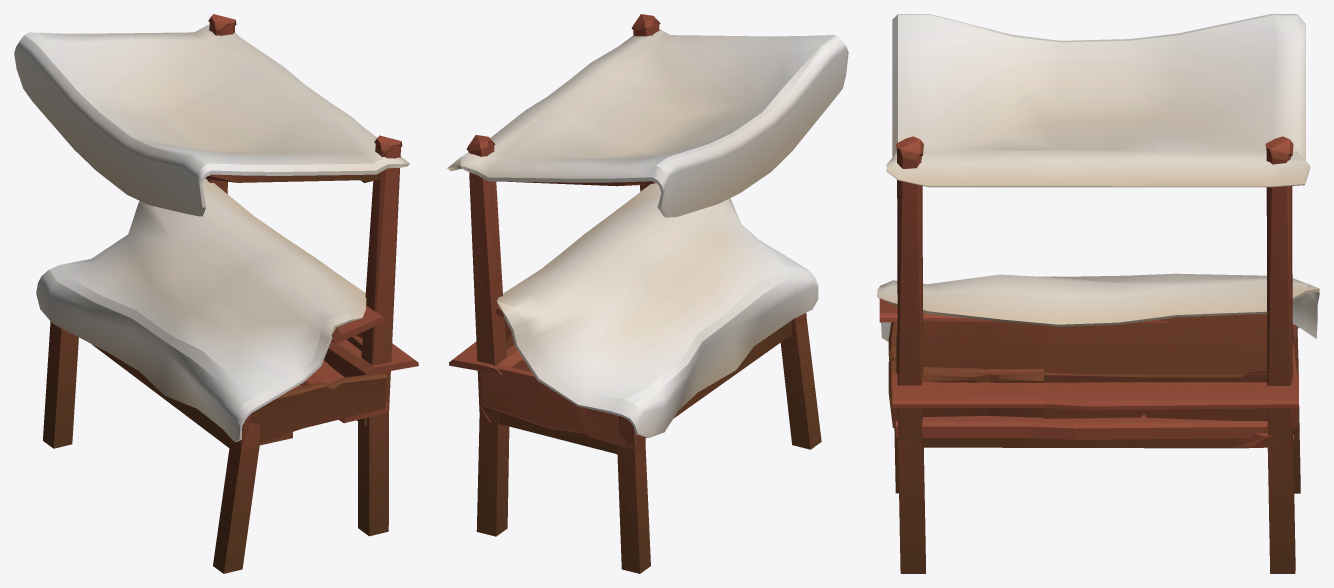
3 renders of one model, left to right at view 1: azimuth 30°, elevation 25°; view 2: azimuth 150°, elevation 25°; view 3: azimuth 270°, elevation 25°, orthographic. The views are drawn at different scales.
Visible parts, largest first — view 1: MarketStandClosed; view 2: MarketStandClosed; view 3: MarketStandClosed.
Part boxes in pixels (x1,y1,x2,y2): MarketStandClosed: (14,14,418,573); MarketStandClosed: (447,14,848,573); MarketStandClosed: (877,14,1319,573).
Bounding box in the file's own units: 1.89 × 3.35 × 2.92.
Materials: 1 (1 with a texture image).
